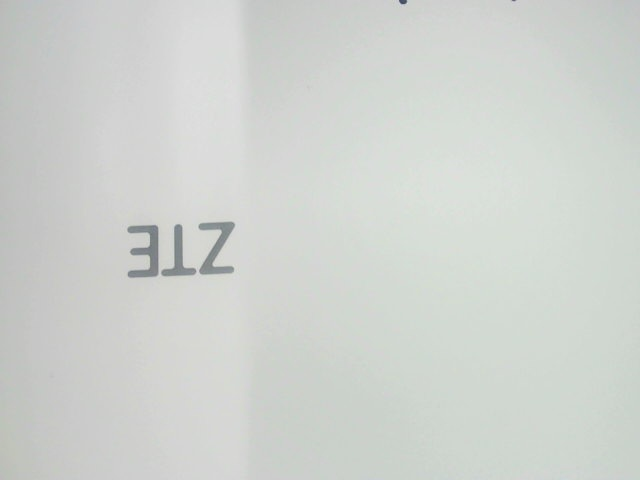AN_ZTE: (123, 216, 238, 283)
